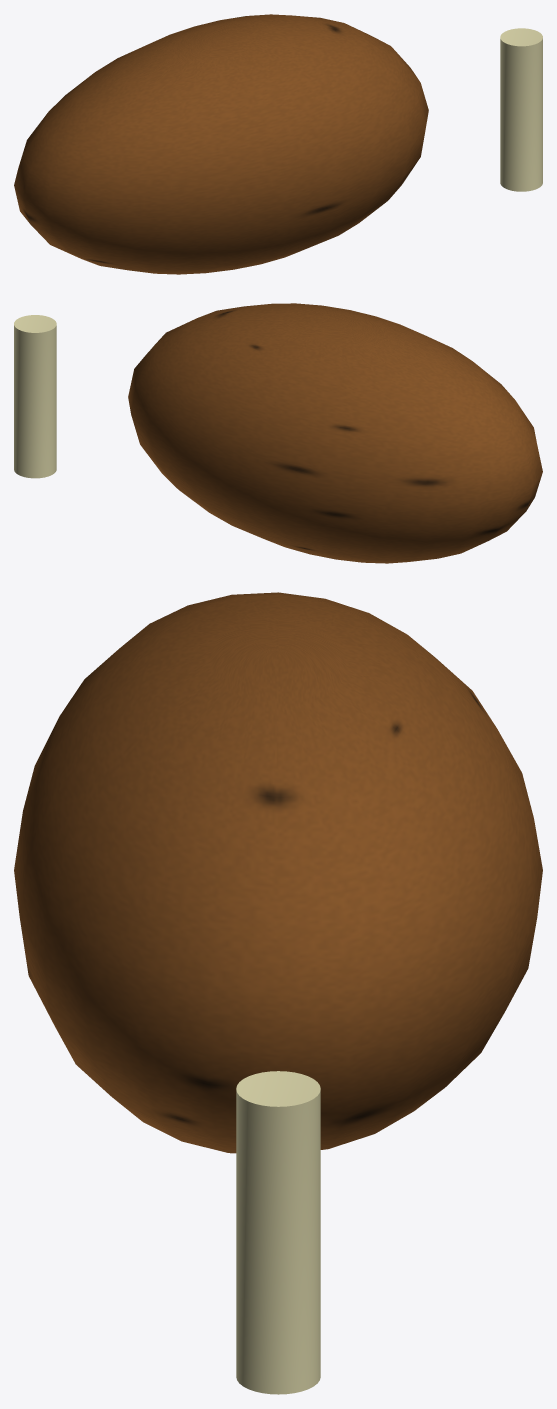
The model's file is VLAB_potato_sample.fbx.
3 views of the same model, one above another, from view 1: azimuth 30°, elevation 25°; view 2: azimuth 150°, elevation 25°; view 3: azimuth 270°, elevation 25° (orthographic). The views are drawn at different scales.
Parts seen in each view (by area): view 1: VLAB_potato_sample_PotatoBody_VIS, VLAB_potato_sample_Cylinder_VIS; view 2: VLAB_potato_sample_PotatoBody_VIS, VLAB_potato_sample_Cylinder_VIS; view 3: VLAB_potato_sample_PotatoBody_VIS, VLAB_potato_sample_Cylinder_VIS.
Boxes of the visible parts, x1,y1,x2,y2 form: VLAB_potato_sample_PotatoBody_VIS: (14,14,428,274); VLAB_potato_sample_Cylinder_VIS: (500,28,542,191); VLAB_potato_sample_PotatoBody_VIS: (128,303,542,563); VLAB_potato_sample_Cylinder_VIS: (14,315,56,478); VLAB_potato_sample_PotatoBody_VIS: (14,592,542,1153); VLAB_potato_sample_Cylinder_VIS: (236,1071,320,1394).
Size of the model in its own units: 0.1115 by 0.045 by 0.05.
